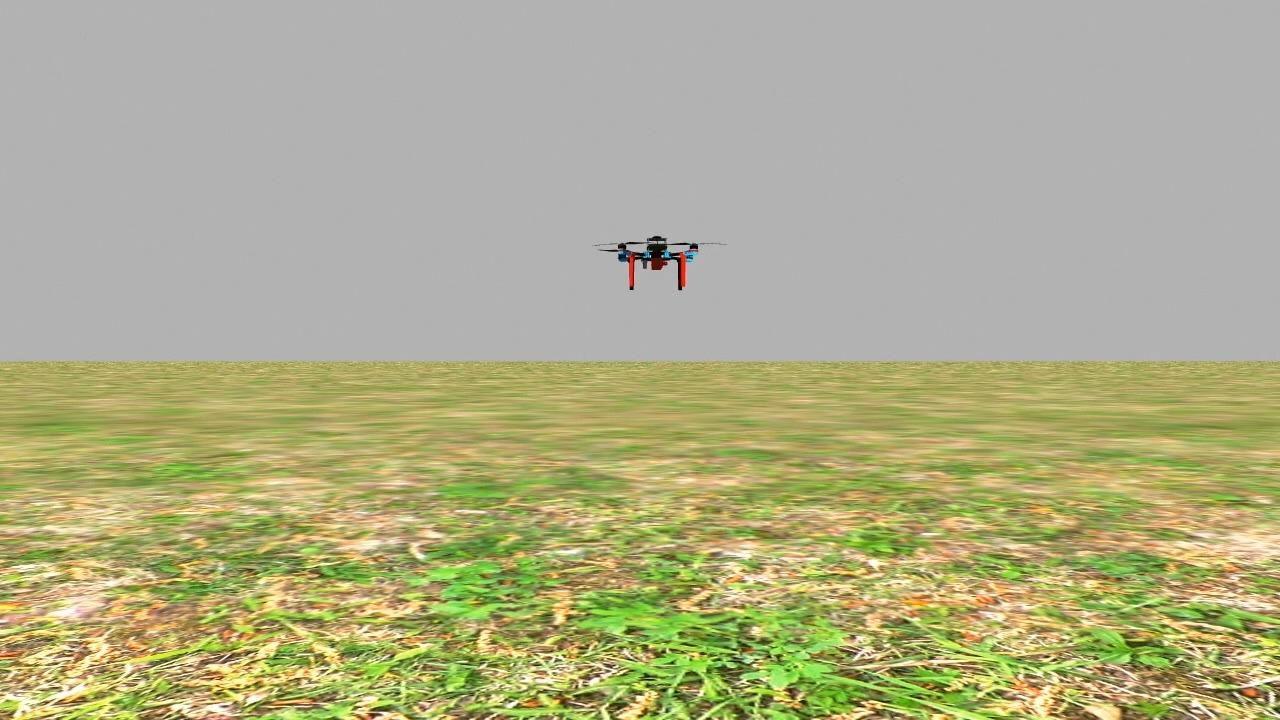UAV: (594, 227, 716, 301)
